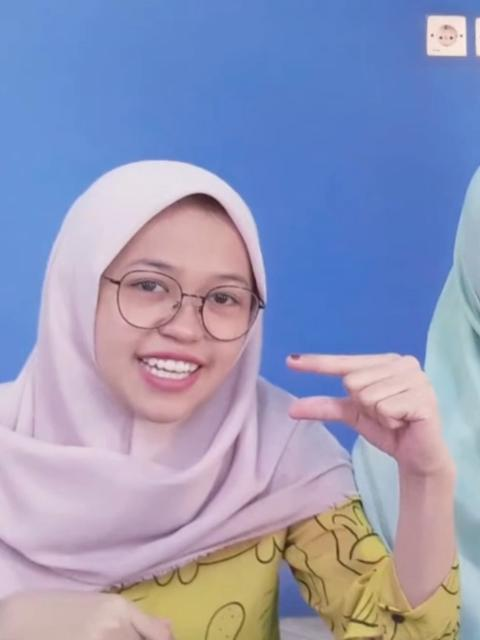G: (281, 350, 458, 480)
